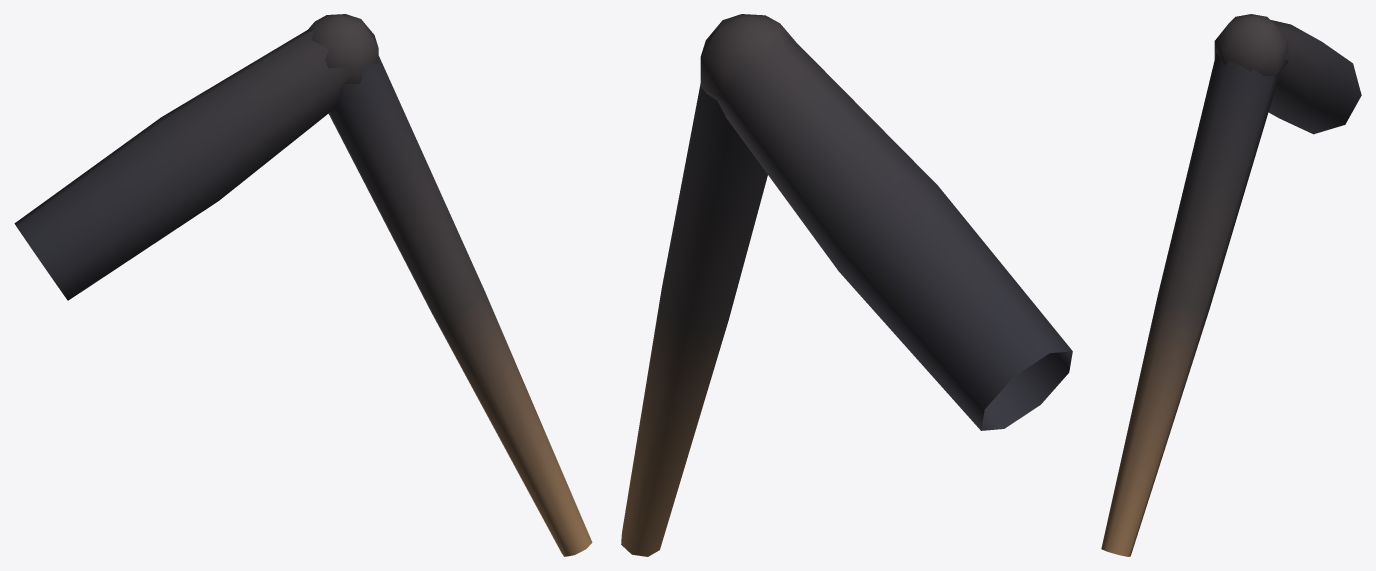
Rendered from Shiomaneki_Leg3.fbx.
3 views of the same model, side by side, from view 1: azimuth 30°, elevation 25°; view 2: azimuth 150°, elevation 25°; view 3: azimuth 270°, elevation 25° (orthographic). The views are drawn at different scales.
Parts seen in each view (by area): view 1: Shiomaneki_Leg3; view 2: Shiomaneki_Leg3; view 3: Shiomaneki_Leg3.
Boxes of the visible parts, bbox=[...] form: Shiomaneki_Leg3: bbox=[14, 14, 592, 556]; Shiomaneki_Leg3: bbox=[621, 14, 1072, 556]; Shiomaneki_Leg3: bbox=[1101, 14, 1361, 556].
Size of the model in its own units: 0.2823 by 0.3067 by 0.1539.
